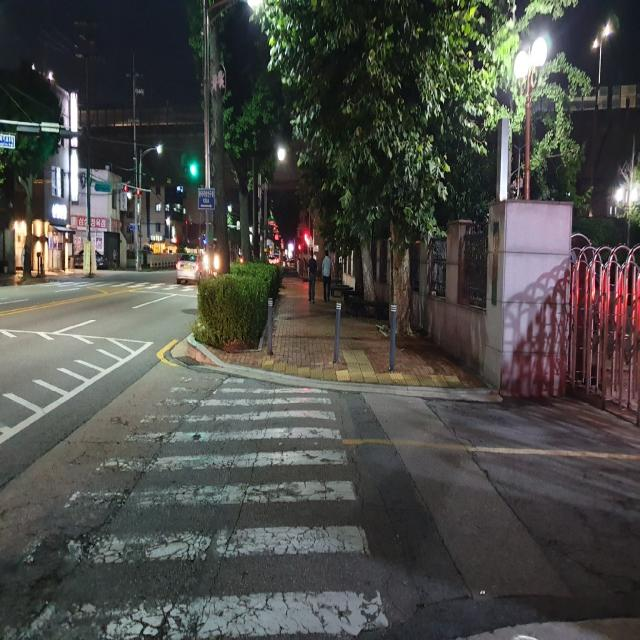횡단보도: (0, 378, 388, 640)
